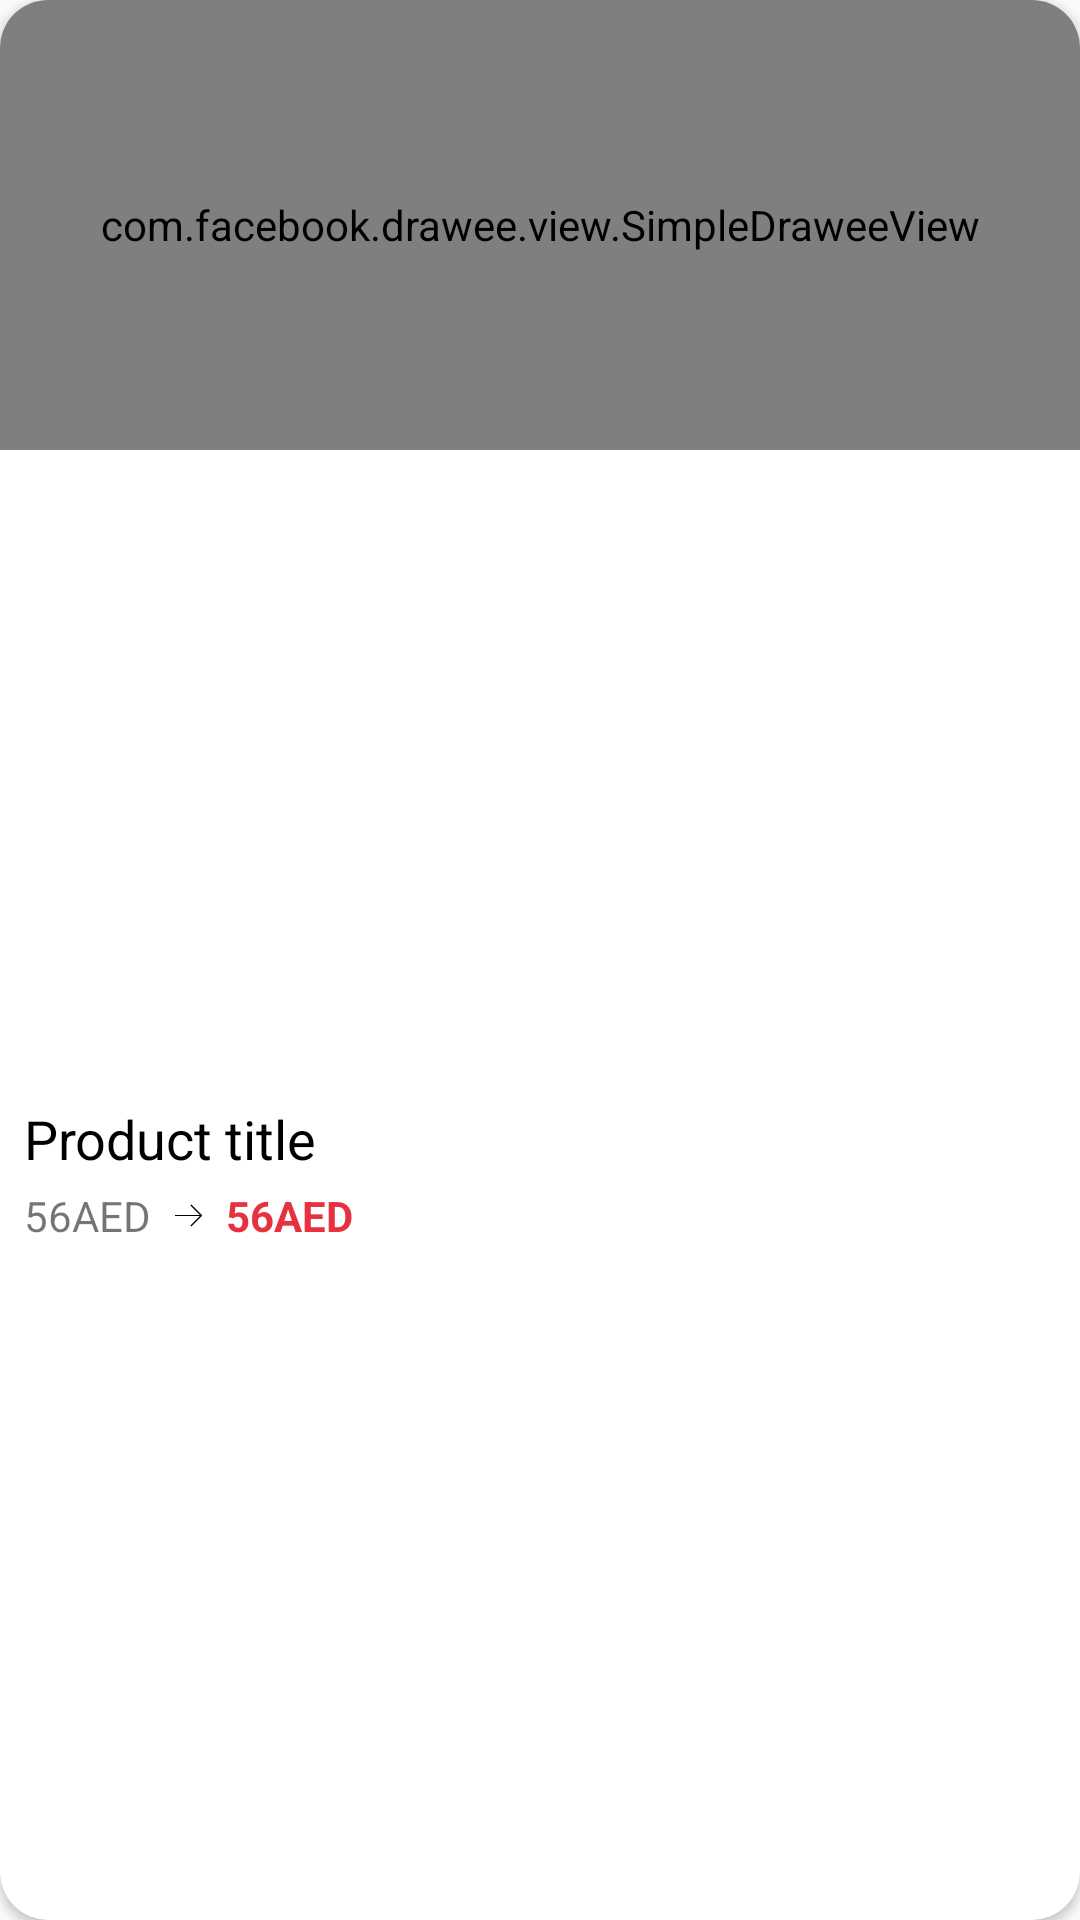

Screen size 1080 x 1920. Icon name, then its center in pixels as (x,y):
arrow price: (188,1215)
